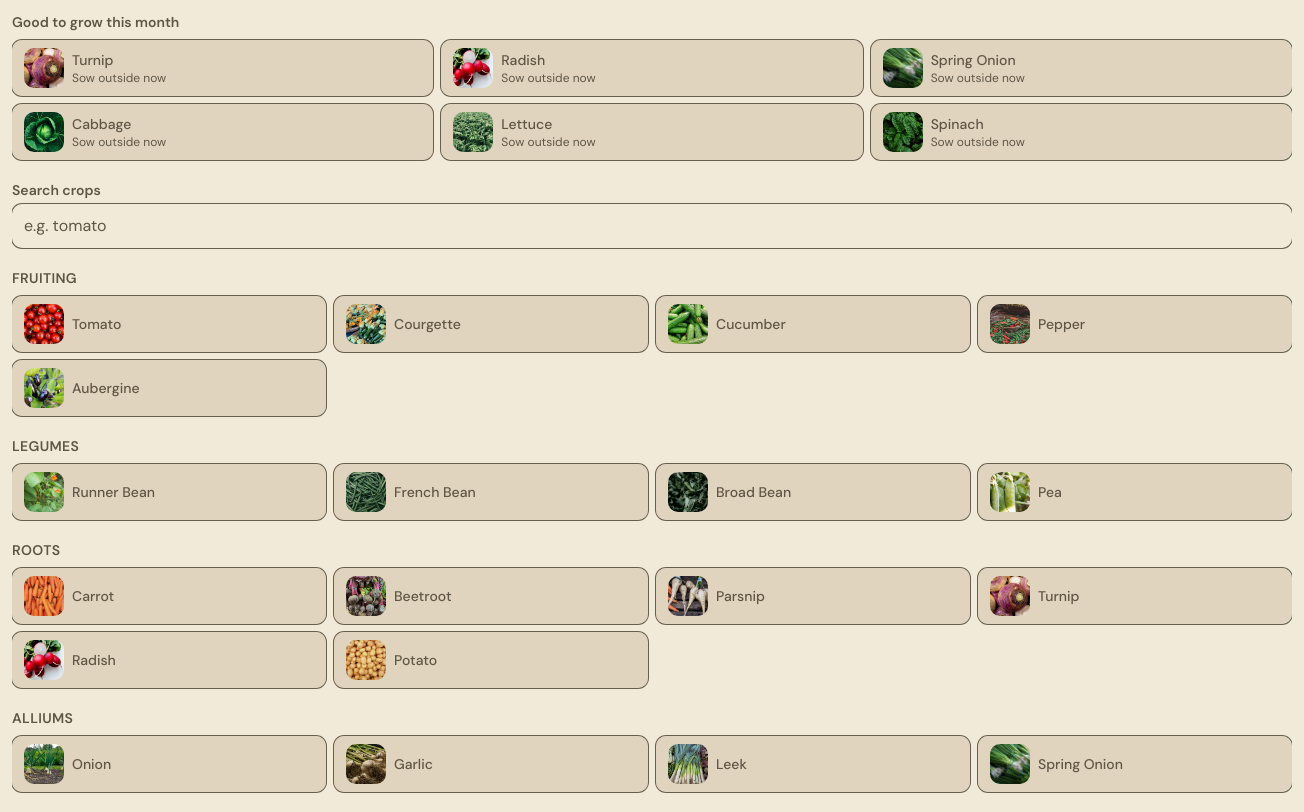
Test: VegetableGrid › filters expanded crop categories by the search term
Type "tom" into the search field labelled "Search crops" at (652, 226), box left=12, top=204, right=1292, bottom=248
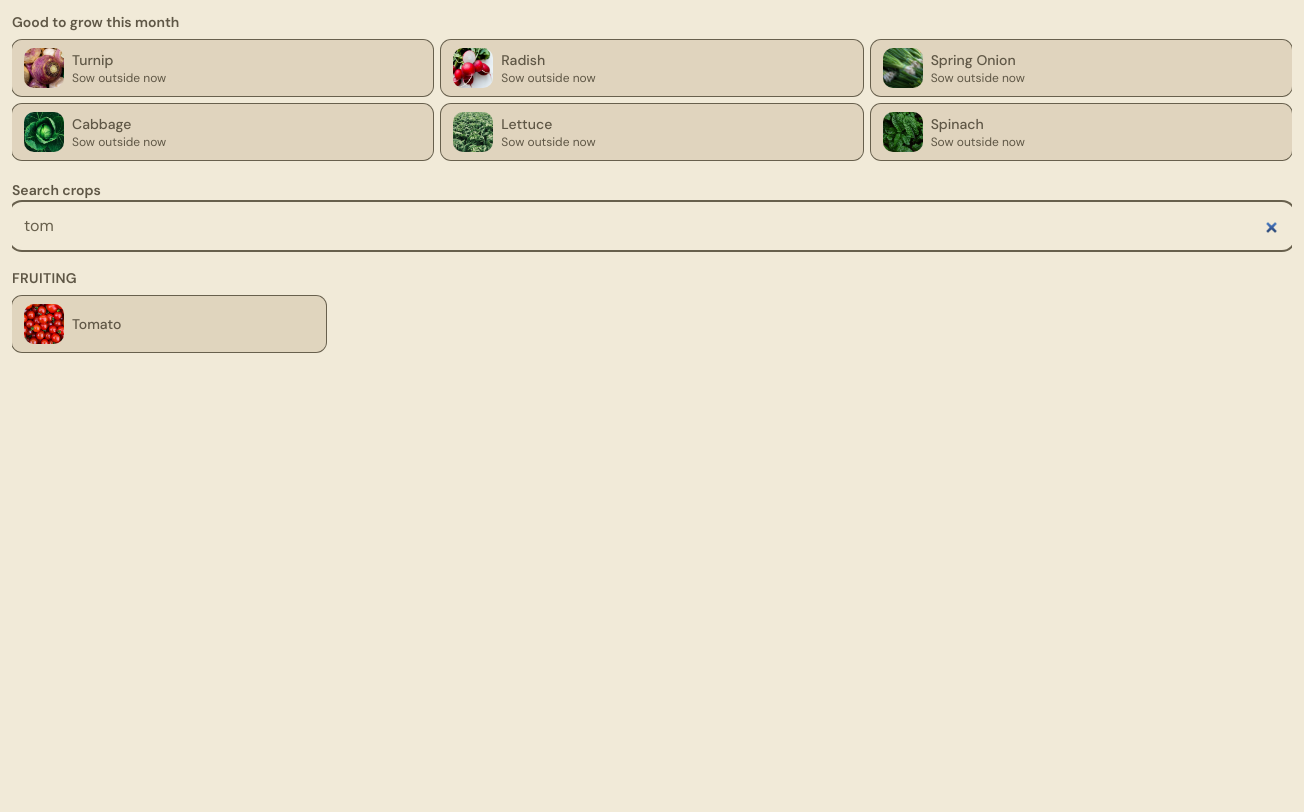
Expected: the button "Tomato" is shown, left=12, top=296, right=326, bottom=352
Expected: the button "Courgette" is gone
